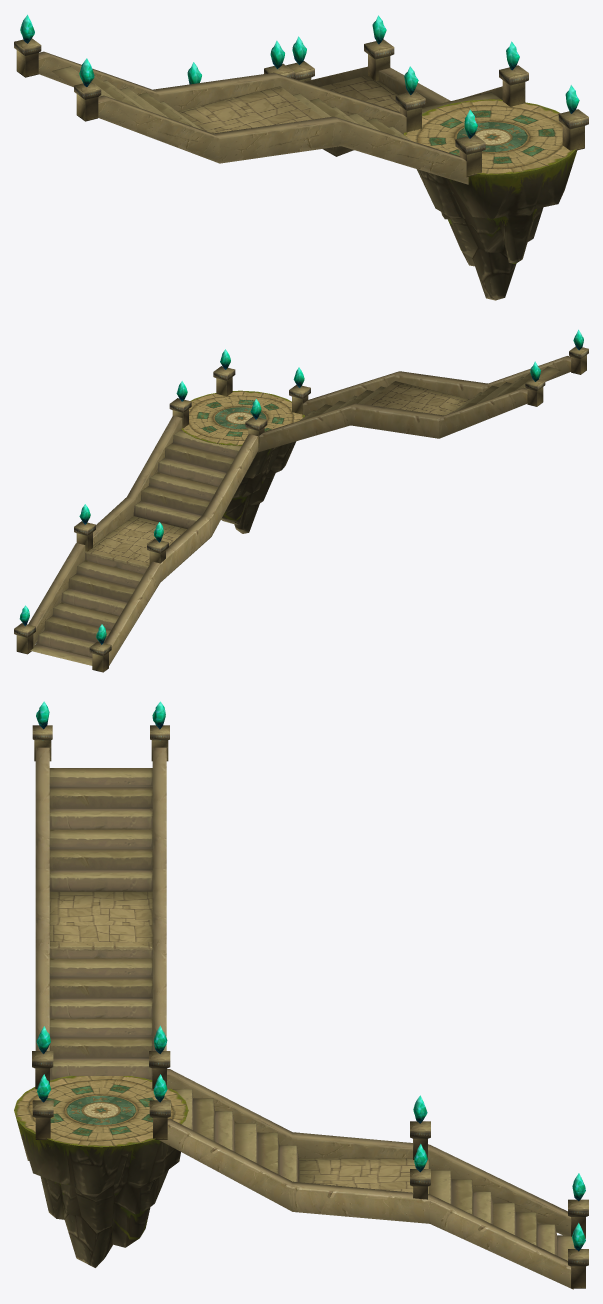
Rendered from arena _stair.FBX.
The picture shows the model from 3 angles, top to bottom: view 1: azimuth 30°, elevation 25°; view 2: azimuth 150°, elevation 25°; view 3: azimuth 270°, elevation 25°; orthographic projection. The views are drawn at different scales.
Parts seen in each view (by area): view 1: arena _stair, arena_stone02; view 2: arena _stair, arena_stone02; view 3: arena _stair, arena_stone02.
Part boxes in pixels (<box>): arena _stair: <box>14,14,588,184</box>; arena_stone02: <box>416,150,577,300</box>; arena _stair: <box>14,329,588,672</box>; arena_stone02: <box>184,432,296,533</box>; arena _stair: <box>14,701,588,1289</box>; arena_stone02: <box>15,1075,185,1267</box>.
Size of the model in its own units: 19.73 by 13.33 by 19.31.
